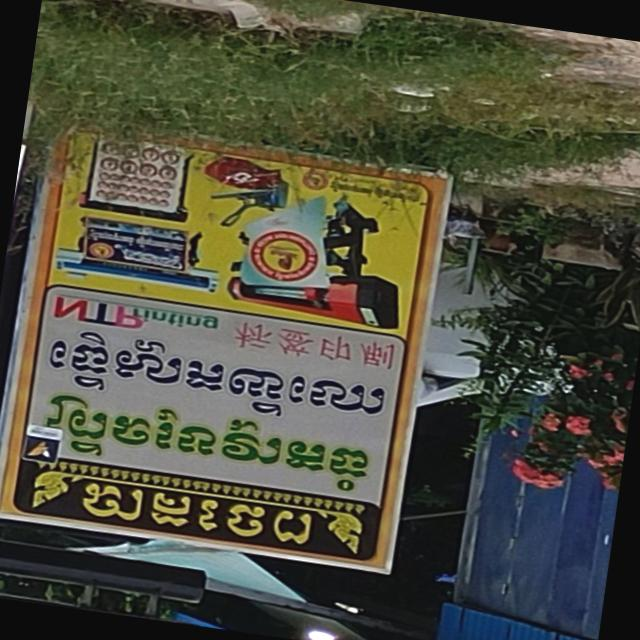Yolov11kh: (35, 321, 401, 441), (38, 388, 378, 501), (75, 477, 324, 555)
